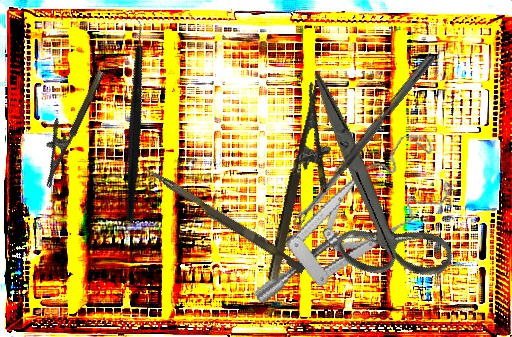Chopper: (52, 9, 211, 223)
Iris Scissors: (238, 70, 500, 310)
Needle Holder: (264, 82, 350, 288), (27, 62, 106, 189)
Pusher: (141, 167, 309, 274)
Speculum: (224, 127, 470, 306)
Surgical Spoon: (290, 51, 437, 229)
